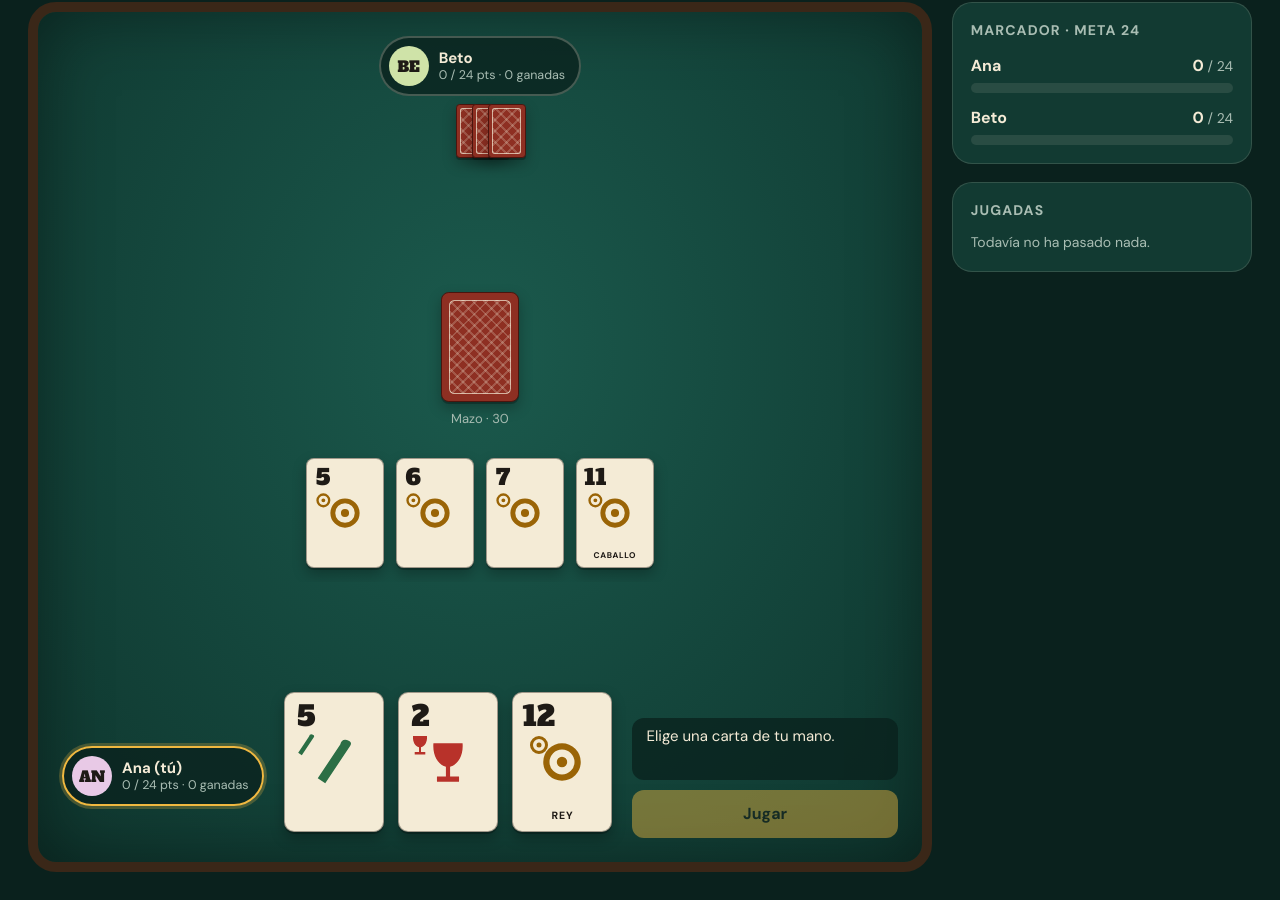
Test case: GamePage · jugar › jugar envía la carta elegida y limpia la selección
The width and height of the screenshot is (1280, 900).
(page scrolled)
Click the button named "5 de bastos".
click(334, 765)  # box top-left (284, 692), bottom-right (384, 838)
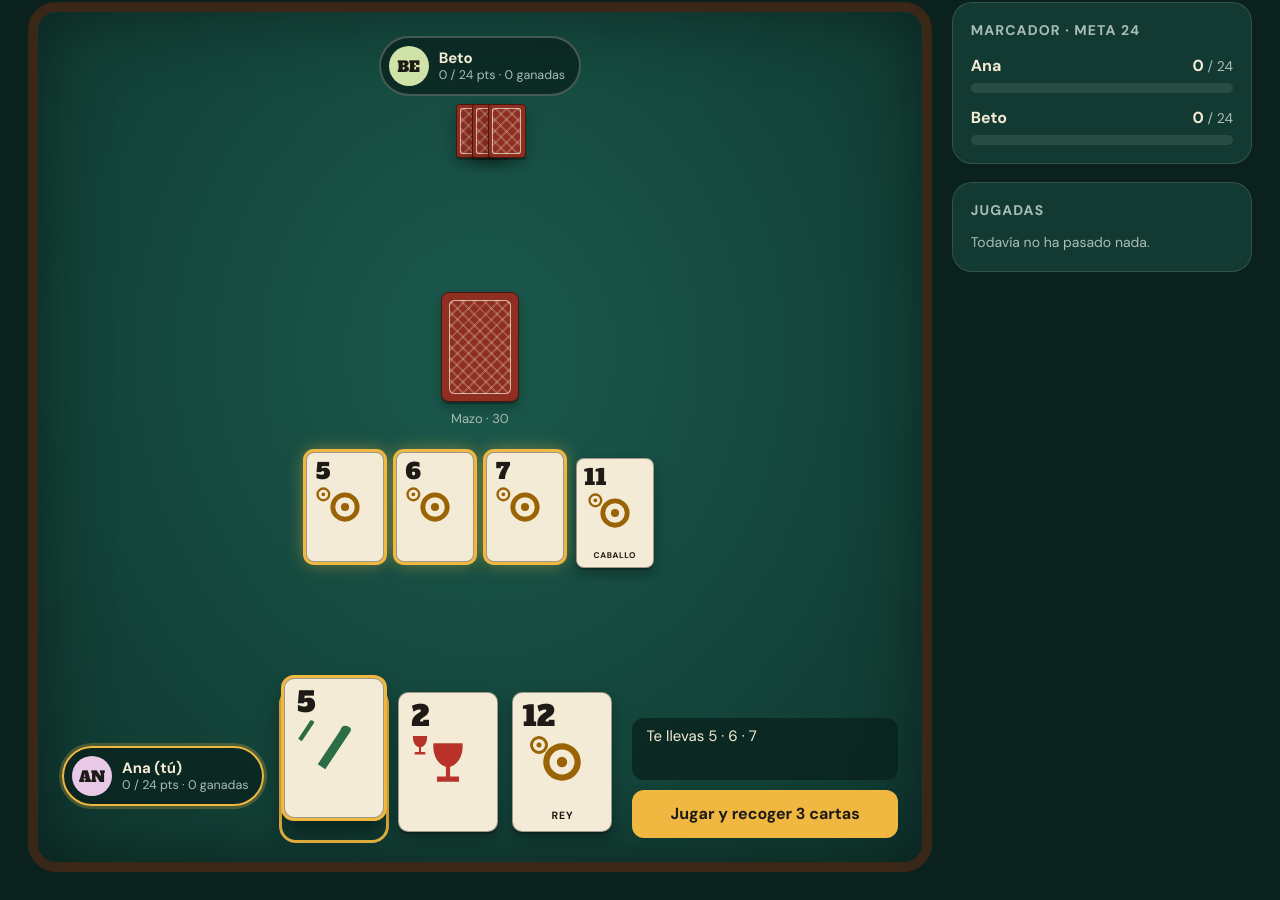
Click the button "Jugar y recoger 3 cartas".
click(765, 814)  # box top-left (632, 790), bottom-right (898, 838)
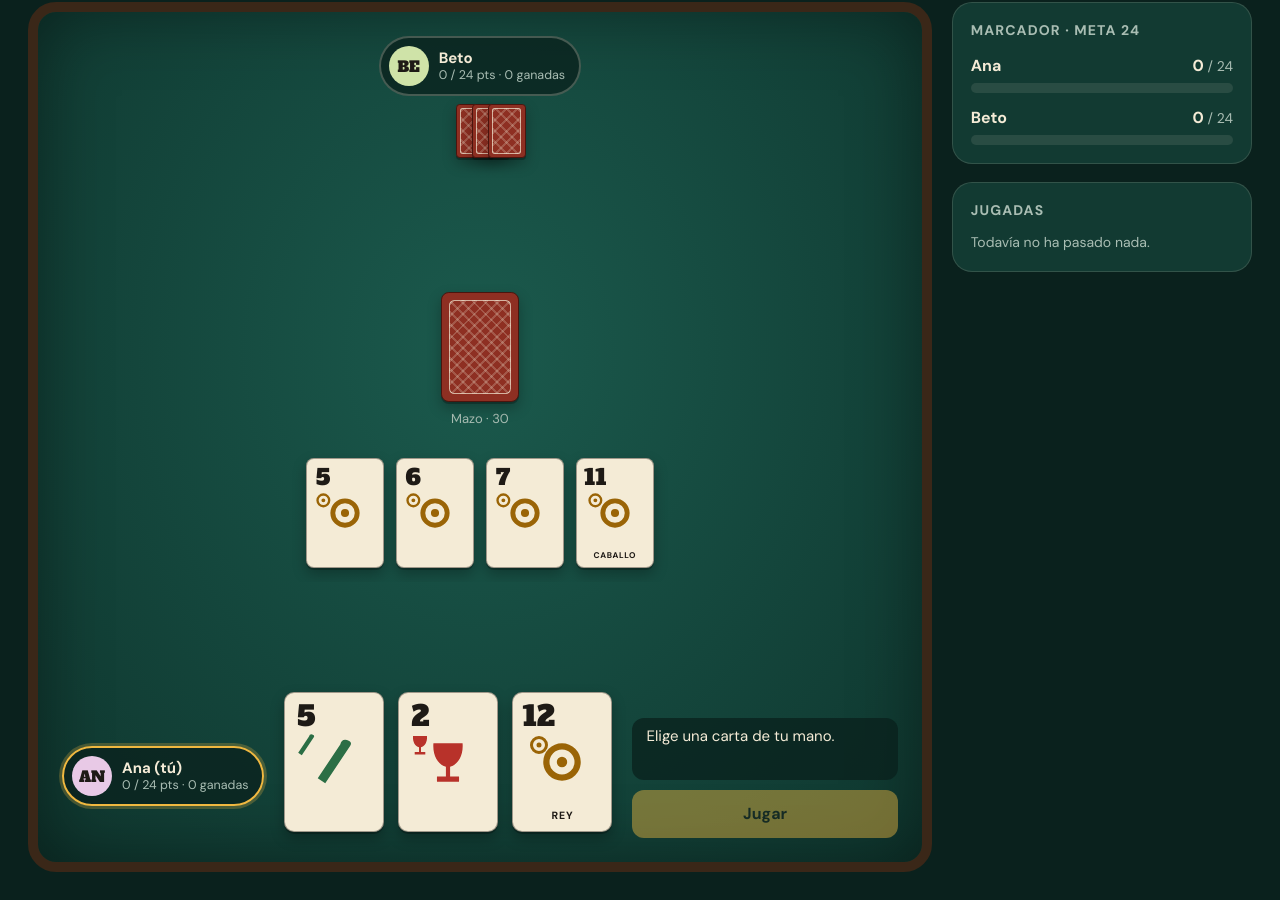
Now the text "Elige una carta de tu mano." is shown, box top-left (632, 718), bottom-right (898, 780)
